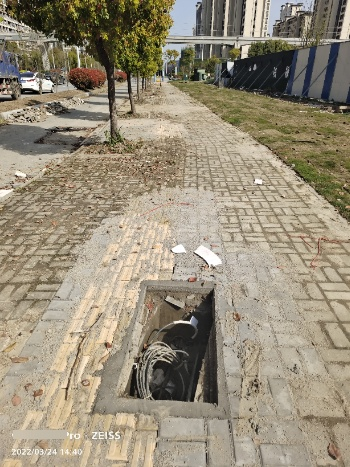well: (113, 276, 226, 408)
